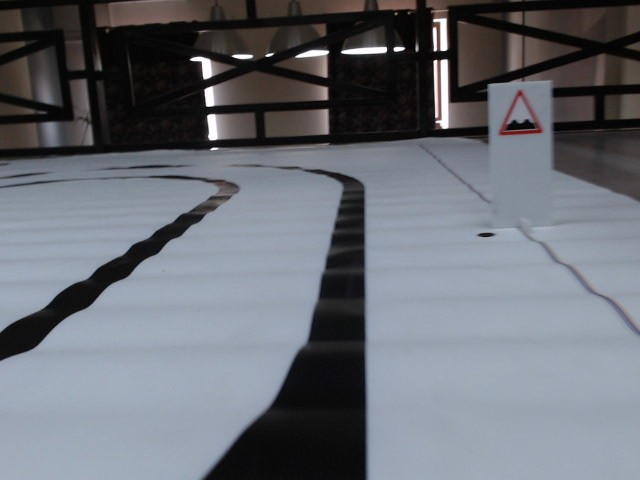Nerov: (498, 90, 547, 139)
